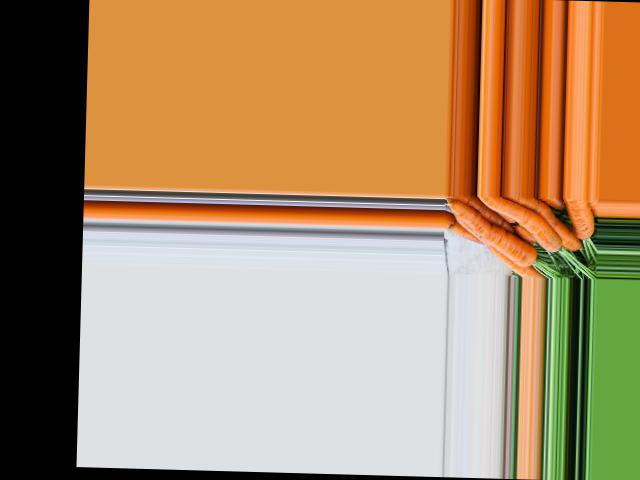carrot: (565, 199, 599, 246)
